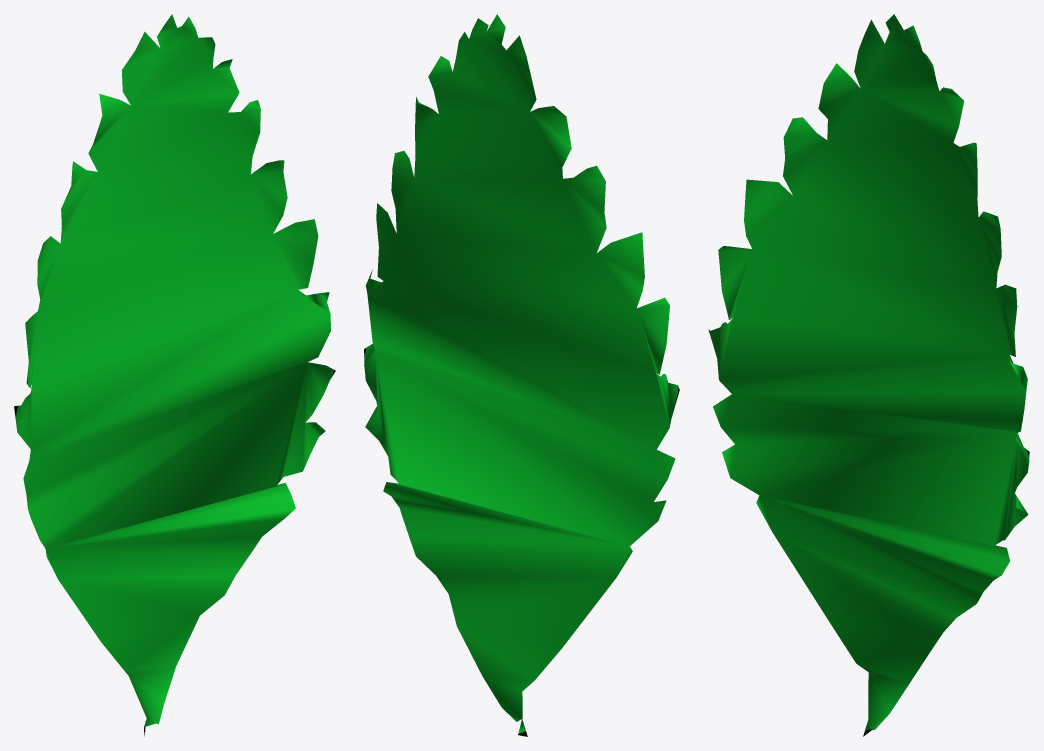
File: WaxWorld_Leaf_2.fbx
The picture shows the model from 3 angles, left to right: view 1: azimuth 30°, elevation 25°; view 2: azimuth 150°, elevation 25°; view 3: azimuth 330°, elevation 25°; orthographic projection. The views are drawn at different scales.
Parts seen in each view (by area): view 1: Line001; view 2: Line001; view 3: Line001.
Part boxes in pixels (left/top/right/bottom): Line001: left=14, top=14, right=335, bottom=736; Line001: left=364, top=14, right=679, bottom=736; Line001: left=708, top=14, right=1029, bottom=736.
Size of the model in its own units: 93.32 by 200 by 13.73.
1 material, 1 textured.
